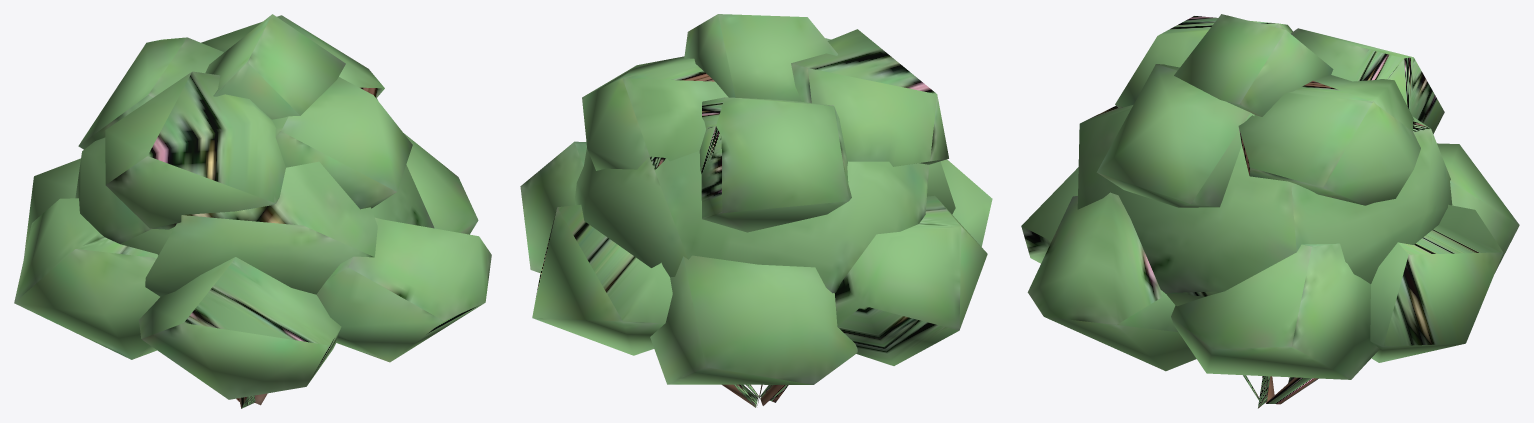
The model's file is bush.glb.
3 renders of one model, left to right at view 1: azimuth 30°, elevation 25°; view 2: azimuth 150°, elevation 25°; view 3: azimuth 270°, elevation 25°, orthographic. The views are drawn at different scales.
Parts seen in each view (by area): view 1: bush_body; view 2: bush_body; view 3: bush_body.
Part boxes in pixels (box(x1,y1,x2,y2)): bush_body: box(14, 14, 491, 408); bush_body: box(520, 14, 992, 407); bush_body: box(1021, 14, 1519, 408).
Bounding box in the file's own units: 1.32 × 1.09 × 1.26.
1 material, 1 textured.
